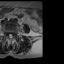CCS_stenosis: (9, 32, 11, 39)
LFS_severe_stenosis: (13, 31, 15, 36)
LLS_stenosis: (11, 32, 13, 38)
RFS_severe_stenosis: (6, 31, 8, 36)
RLS_severe_stenosis: (8, 32, 9, 38)
